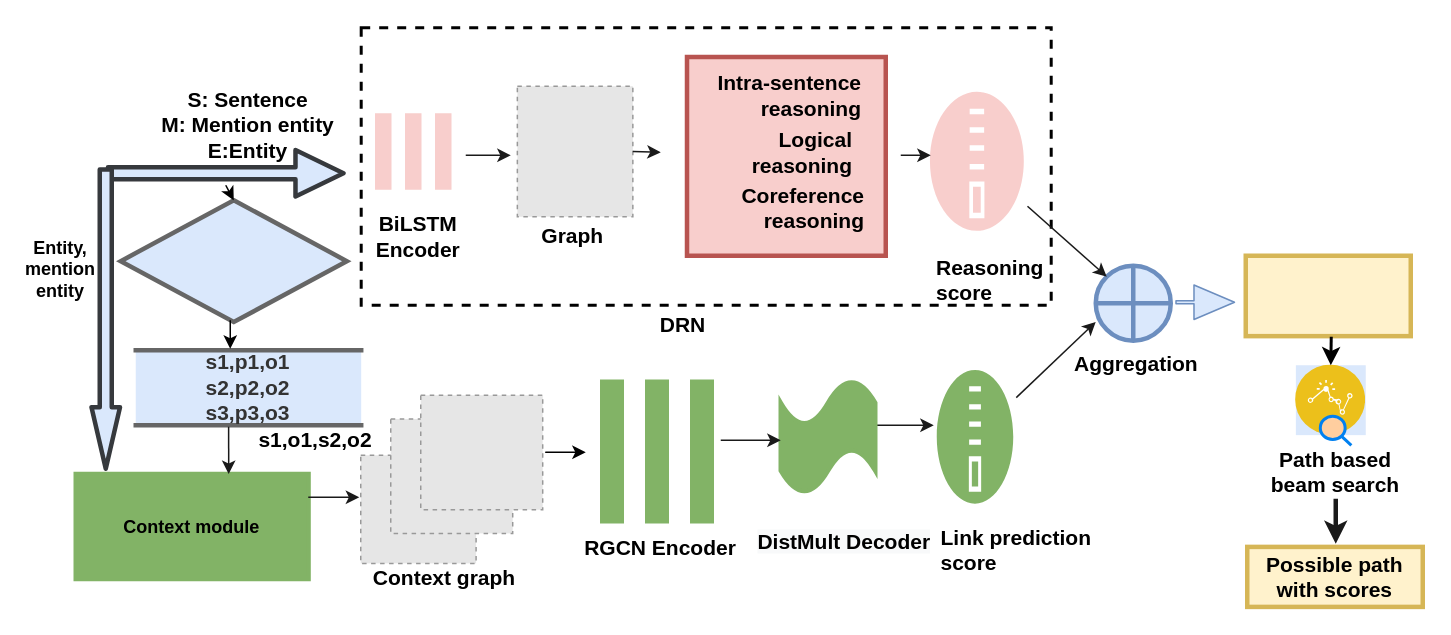
Image size: 1451x635. Some labels were removed from this diagram. Grey dashed boxes stand in for pictures. Each missing label, with the centre of its shape:
"Predicted relation, triples with score" belongs at (x=1327, y=295).
"Triplet extraction REBEL" belongs at (x=233, y=260).
